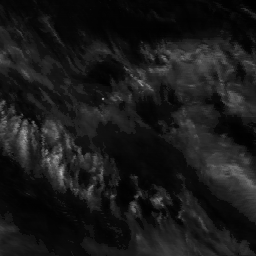Target: (100, 96, 106, 102)
